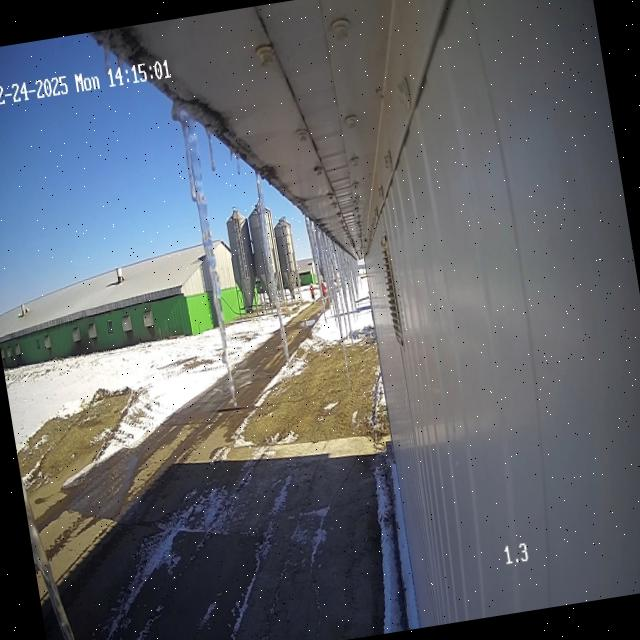Red uniform: (321, 280, 327, 299), (310, 284, 315, 301)
